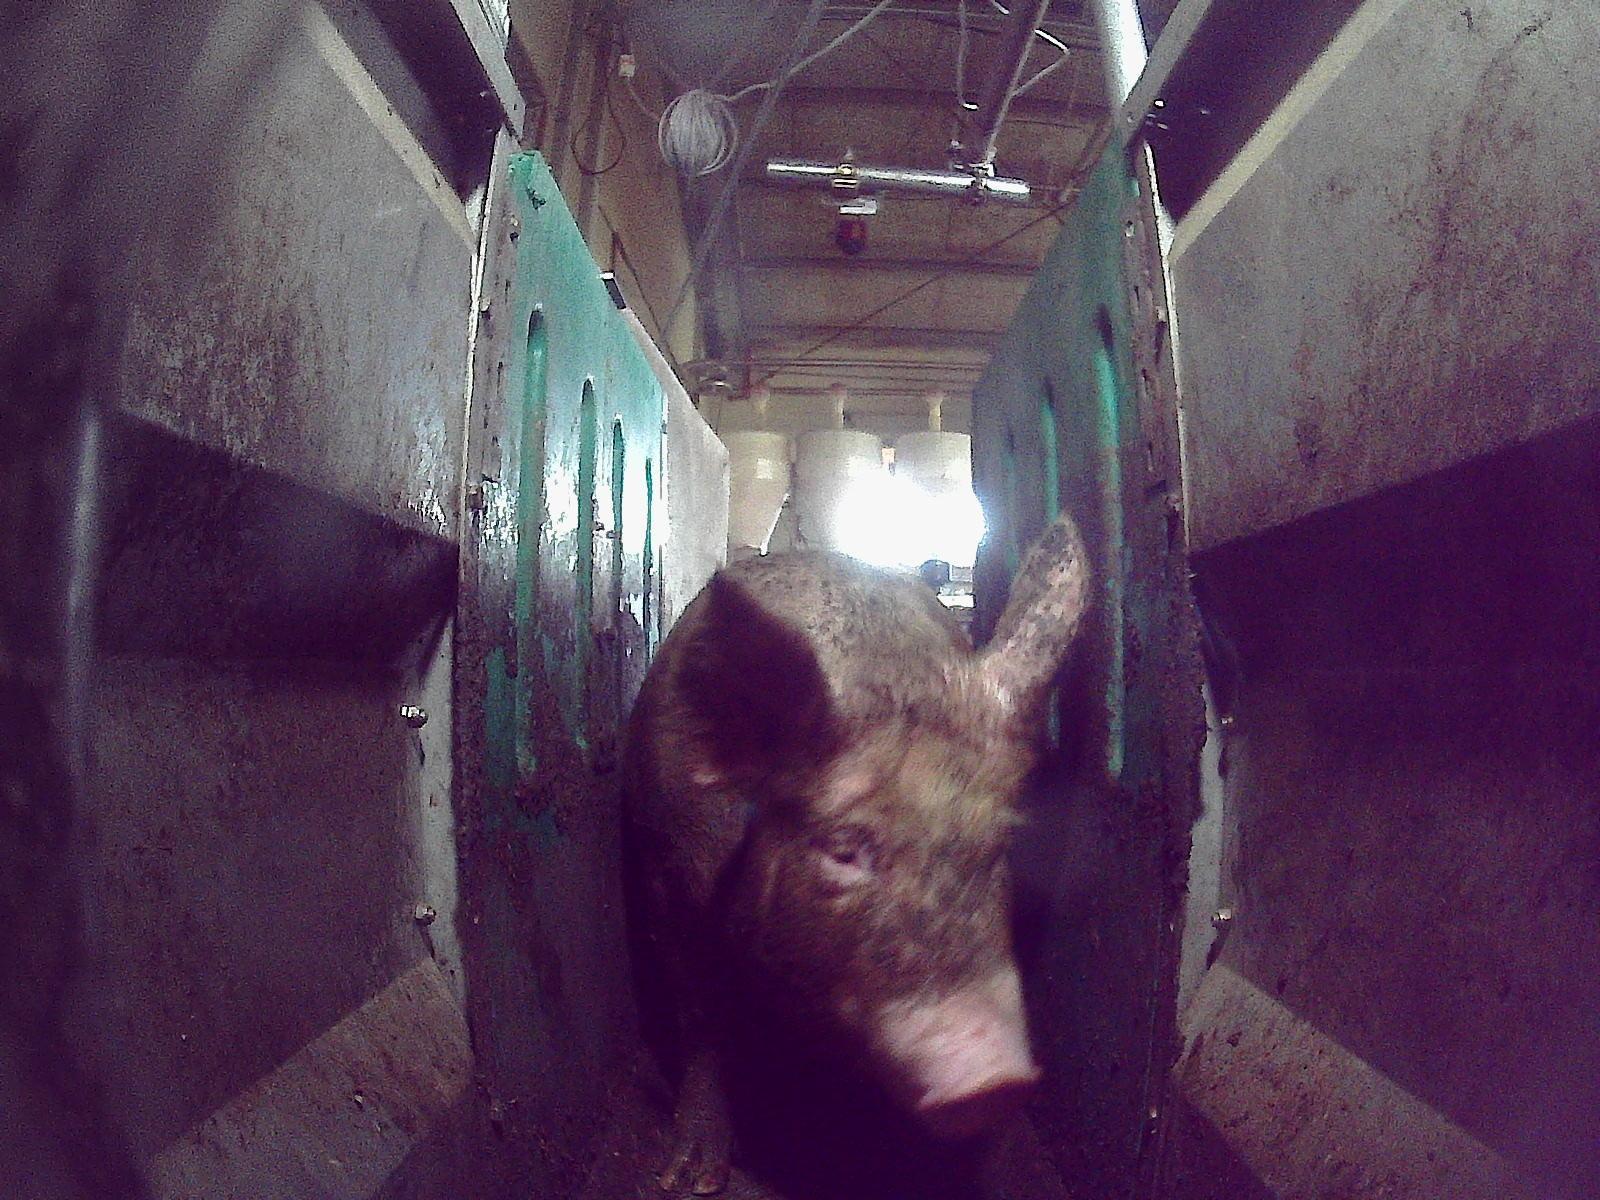Face: (727, 685, 1043, 1133)
